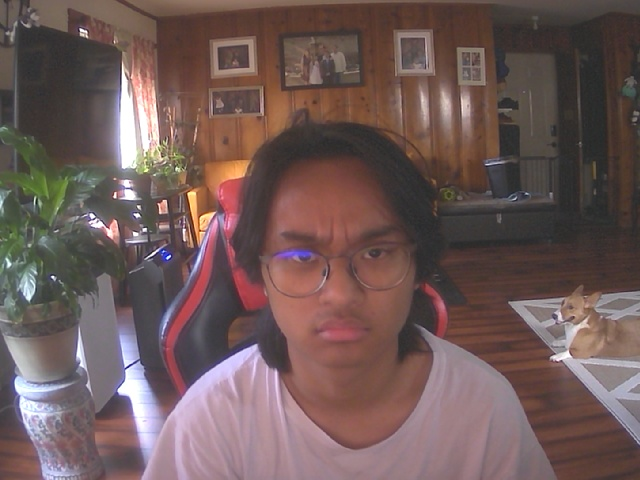anger: (253, 136, 431, 376)
